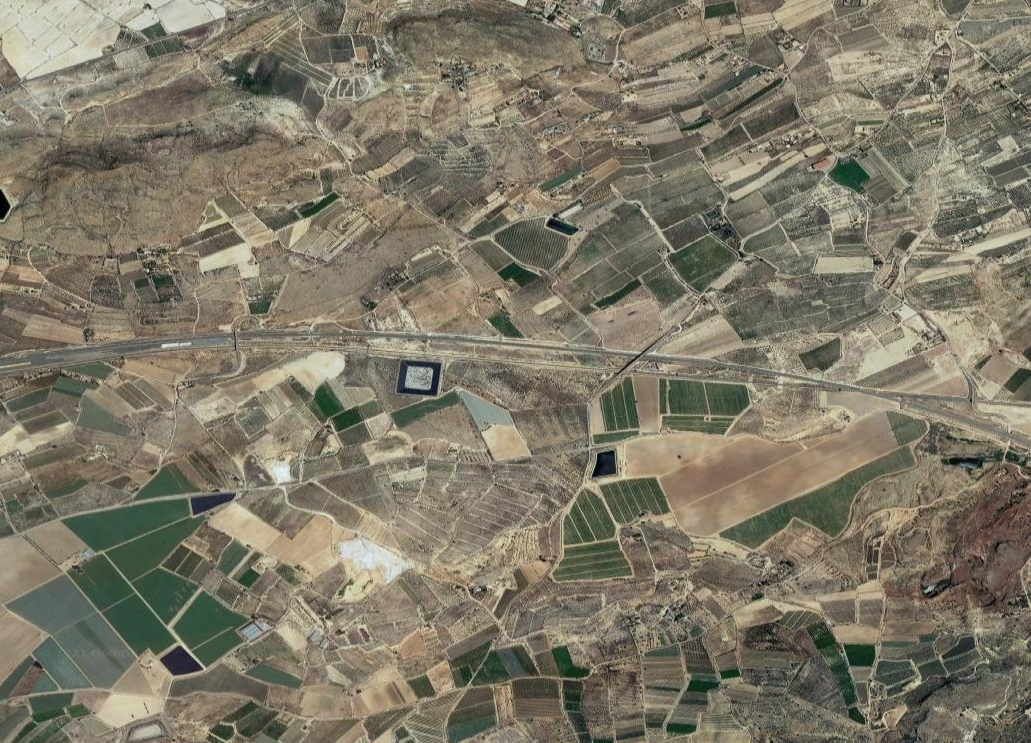bridge: (624, 351, 646, 367), (231, 328, 240, 345)
motorway: (839, 378, 1031, 449), (1, 335, 164, 376), (343, 323, 508, 363), (508, 336, 673, 376), (674, 351, 839, 391), (164, 321, 344, 357)
